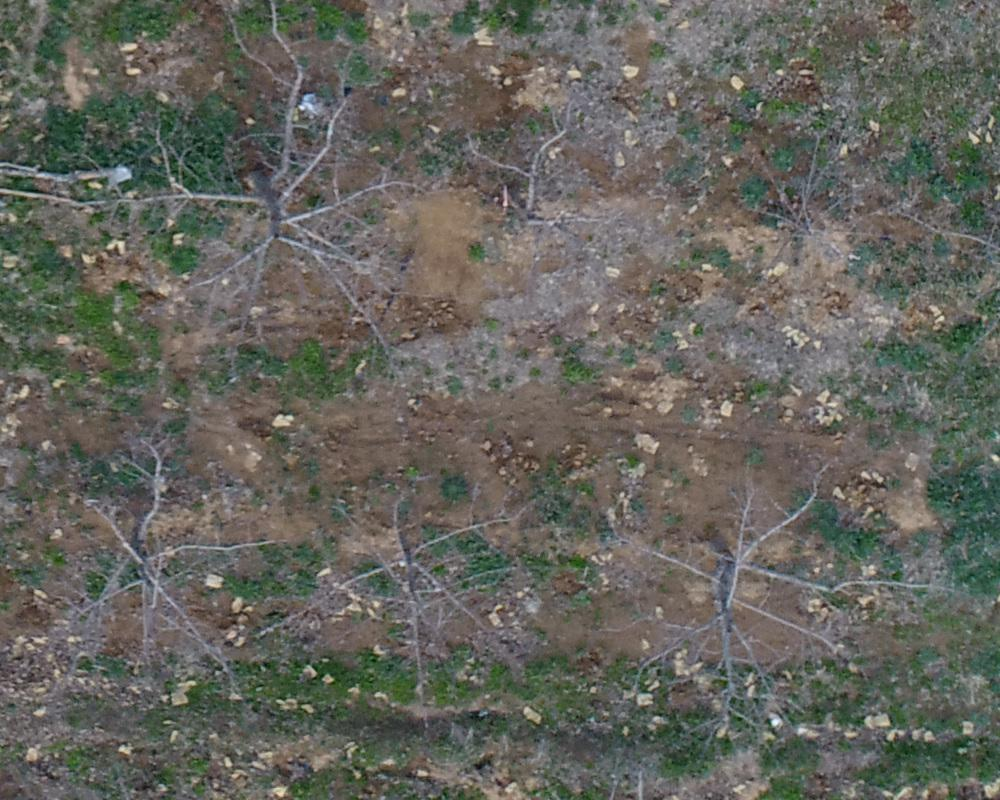apple: (140, 10, 415, 369), (614, 455, 935, 741), (284, 477, 537, 720), (57, 443, 270, 695), (718, 132, 872, 296), (885, 124, 990, 360), (475, 94, 618, 234)
